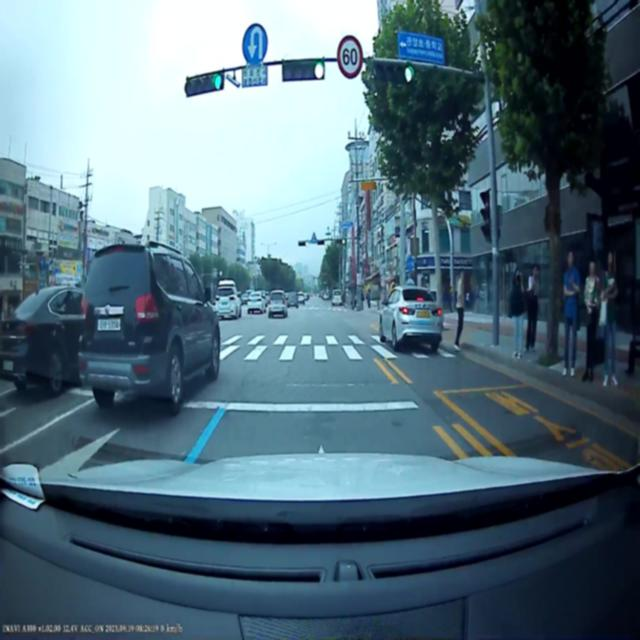Green Light: (212, 70, 224, 92), (404, 63, 414, 87), (314, 61, 324, 78), (342, 239, 346, 244), (305, 241, 308, 246), (324, 240, 327, 245)
